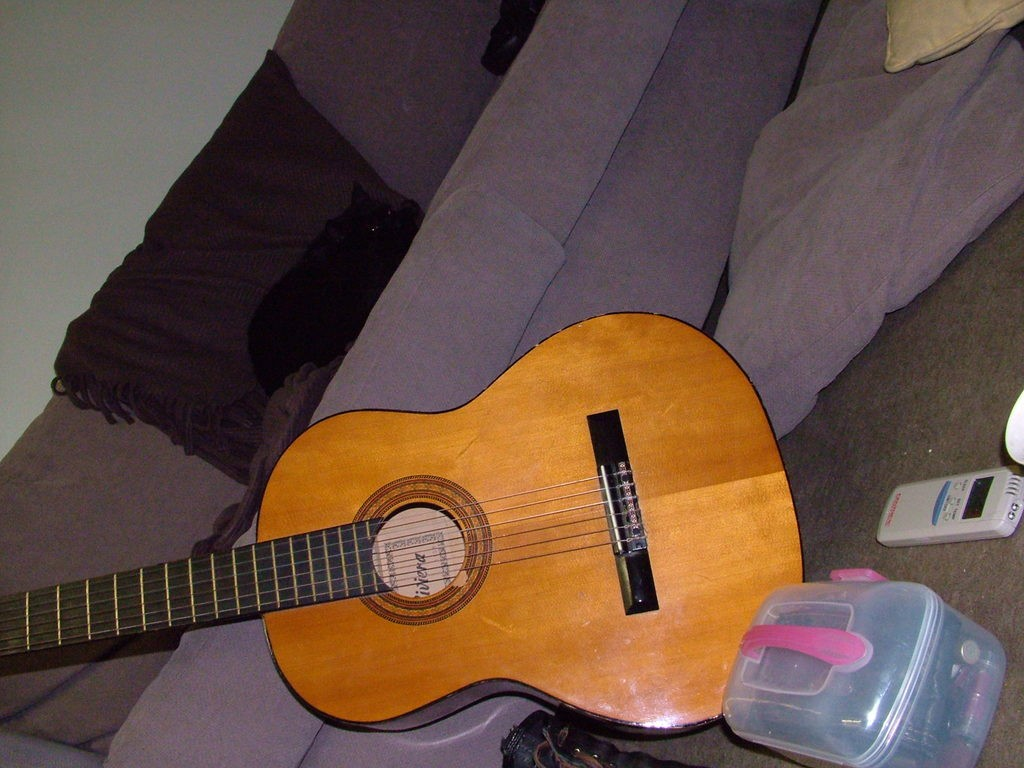guitar: (0, 313, 805, 737)
